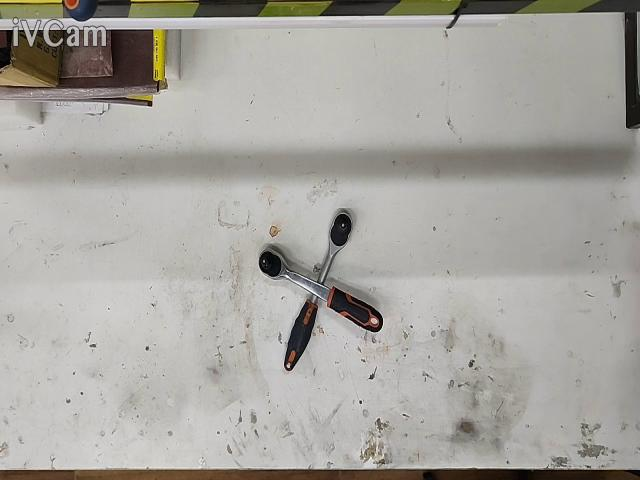Ratchet: (283, 211, 353, 373), (259, 247, 382, 332)
